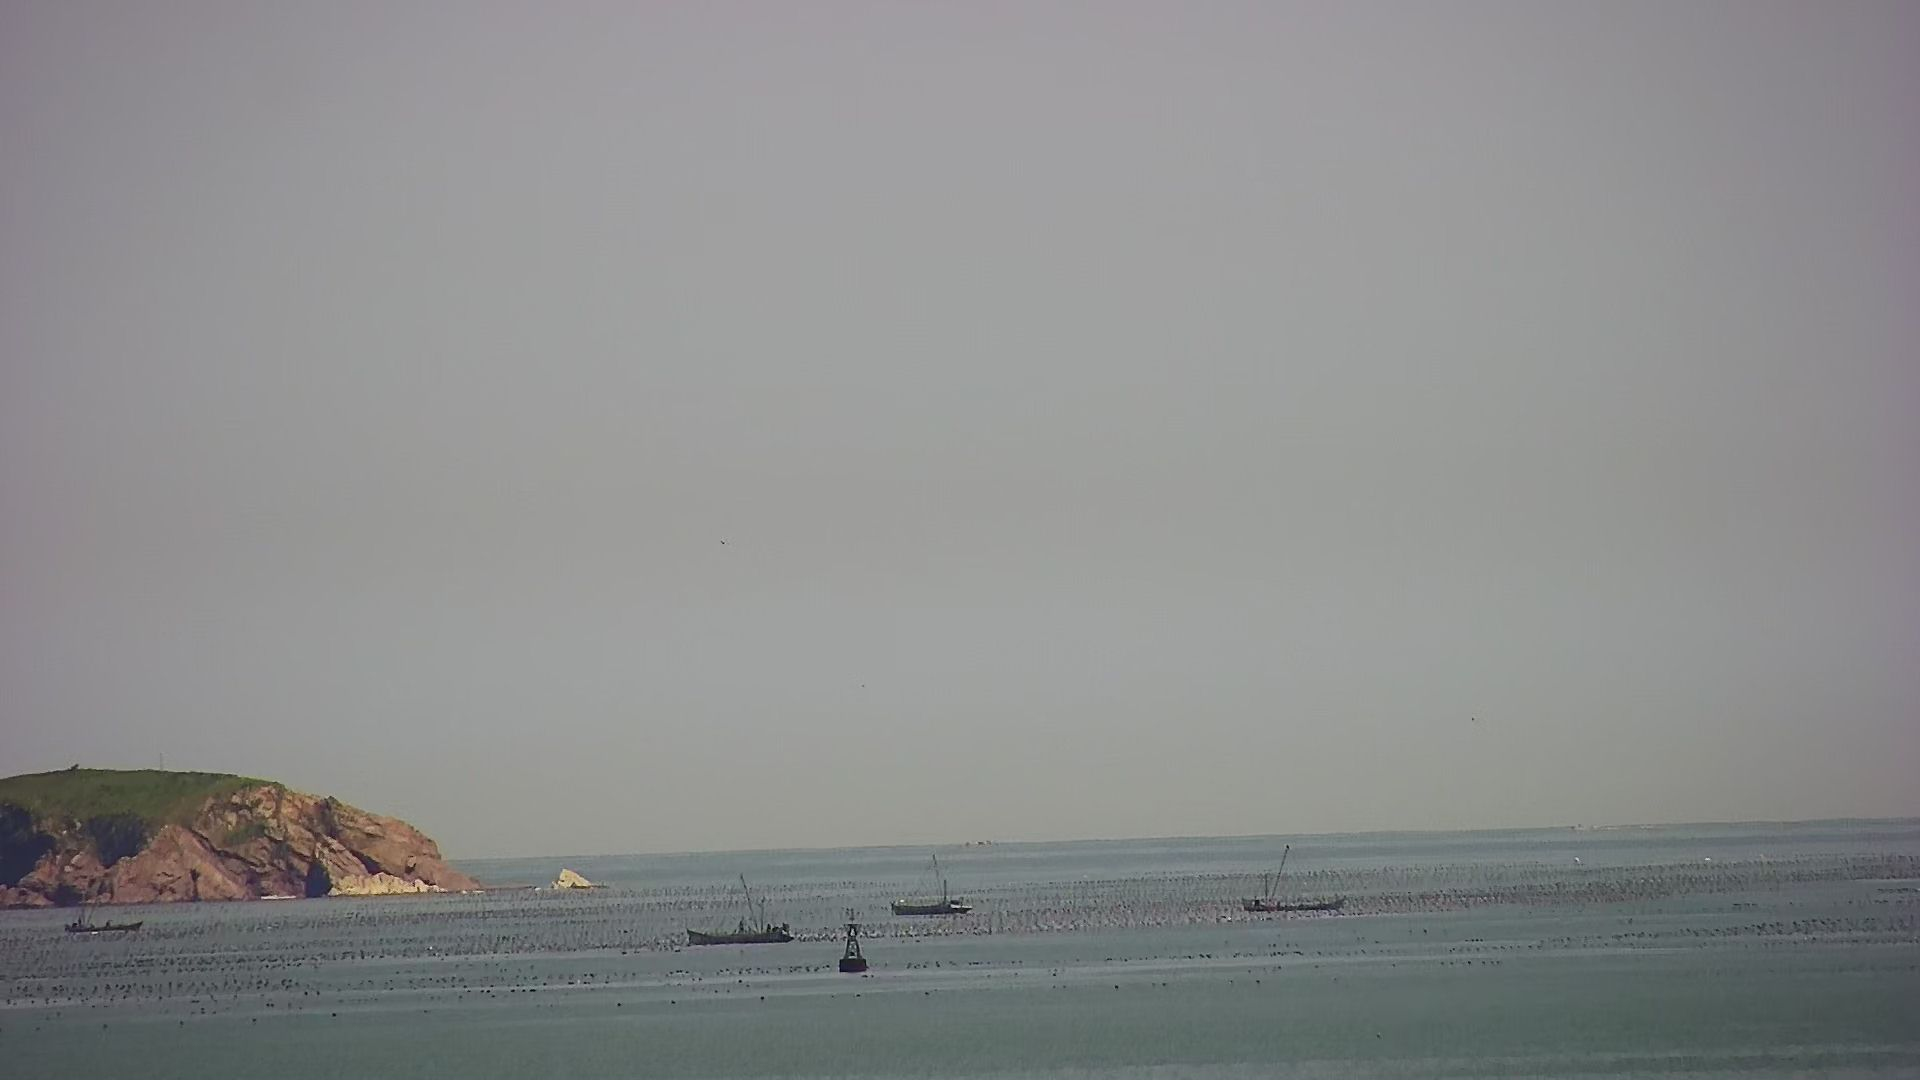boat: (680, 872, 800, 945), (1241, 845, 1352, 916), (65, 876, 145, 945), (887, 855, 973, 916)
buoy: (833, 916, 870, 976)
rock: (1, 764, 469, 909), (549, 864, 608, 893)
